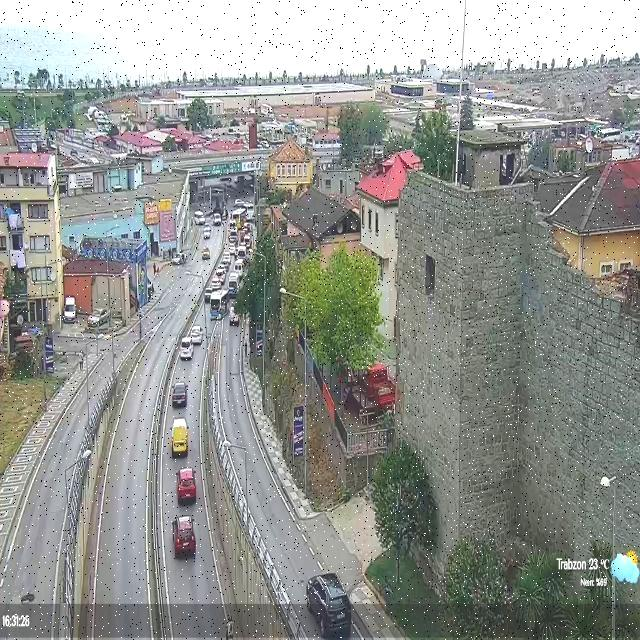Bus: (210, 290, 230, 320)
Car: (306, 573, 352, 639), (172, 511, 198, 559), (176, 467, 197, 505), (171, 419, 189, 457), (87, 307, 110, 328), (171, 382, 188, 407), (179, 336, 194, 360), (190, 325, 203, 344), (228, 272, 239, 291), (229, 306, 239, 326), (171, 253, 186, 265), (210, 275, 222, 289), (234, 258, 244, 273), (215, 265, 226, 278), (237, 246, 247, 259), (229, 231, 238, 245), (204, 287, 213, 301), (222, 252, 231, 266), (202, 247, 210, 260), (203, 226, 211, 239), (234, 199, 246, 207)
Van: (63, 296, 77, 324), (194, 210, 205, 225), (213, 213, 222, 226)
